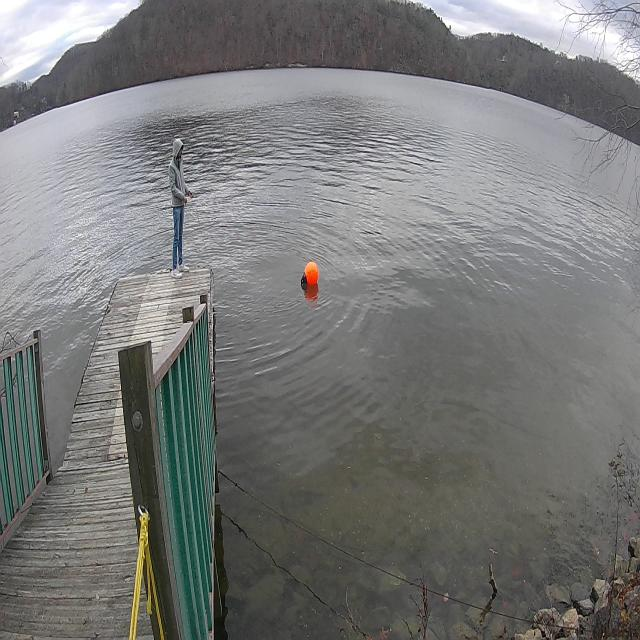Buoy: (299, 257, 321, 295)
